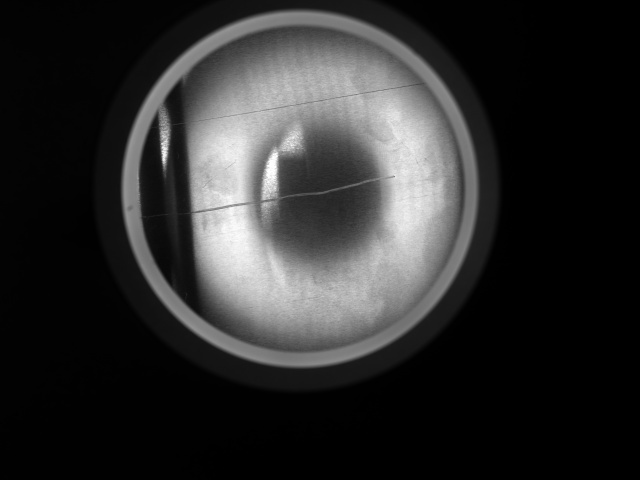ca_shang: (157, 82, 426, 124), (145, 175, 398, 214)
